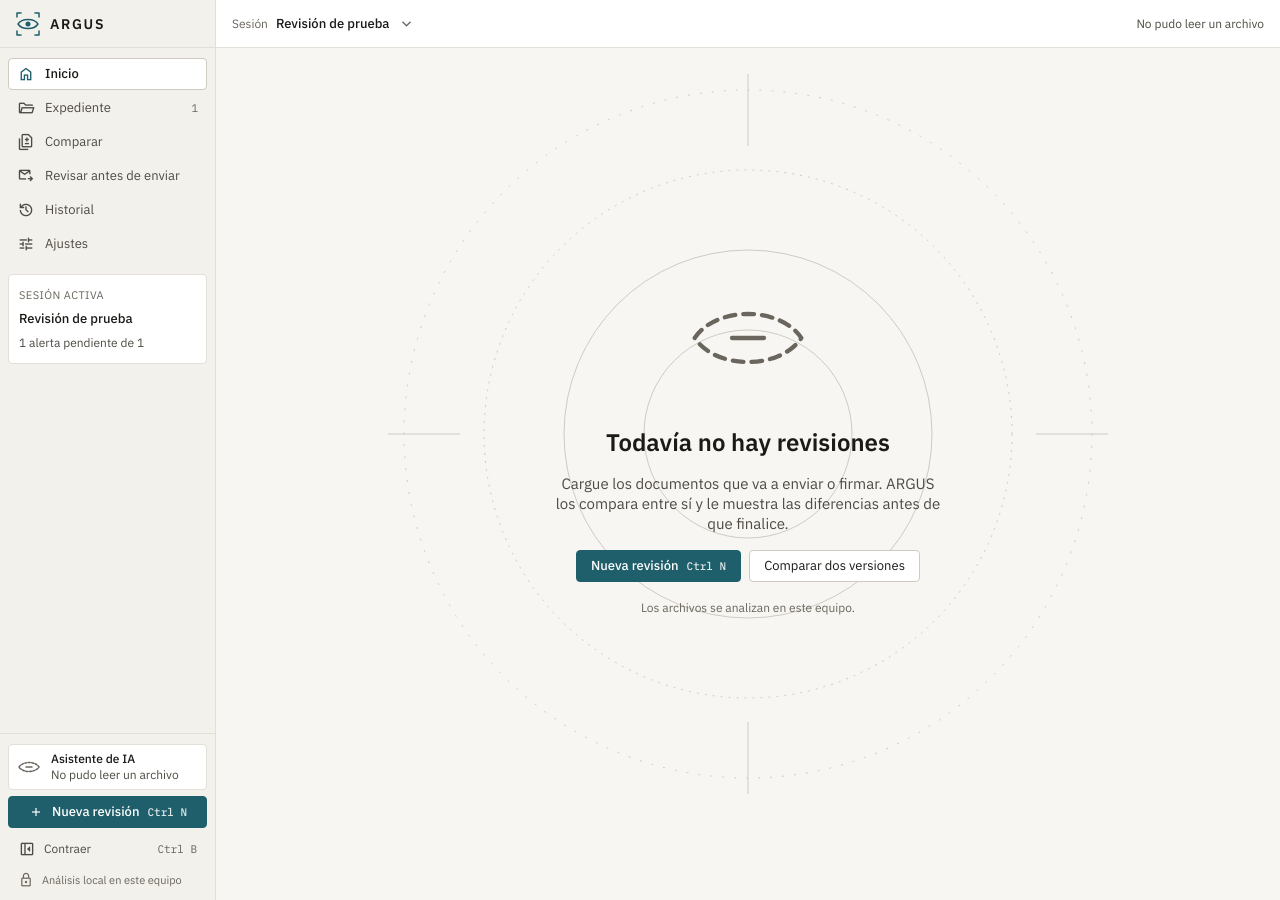
Explicar esta alerta › una alerta de un solo valor cita su único origen
Click the button "Expediente 1". click: (108, 108)
box: [8, 92, 207, 124]
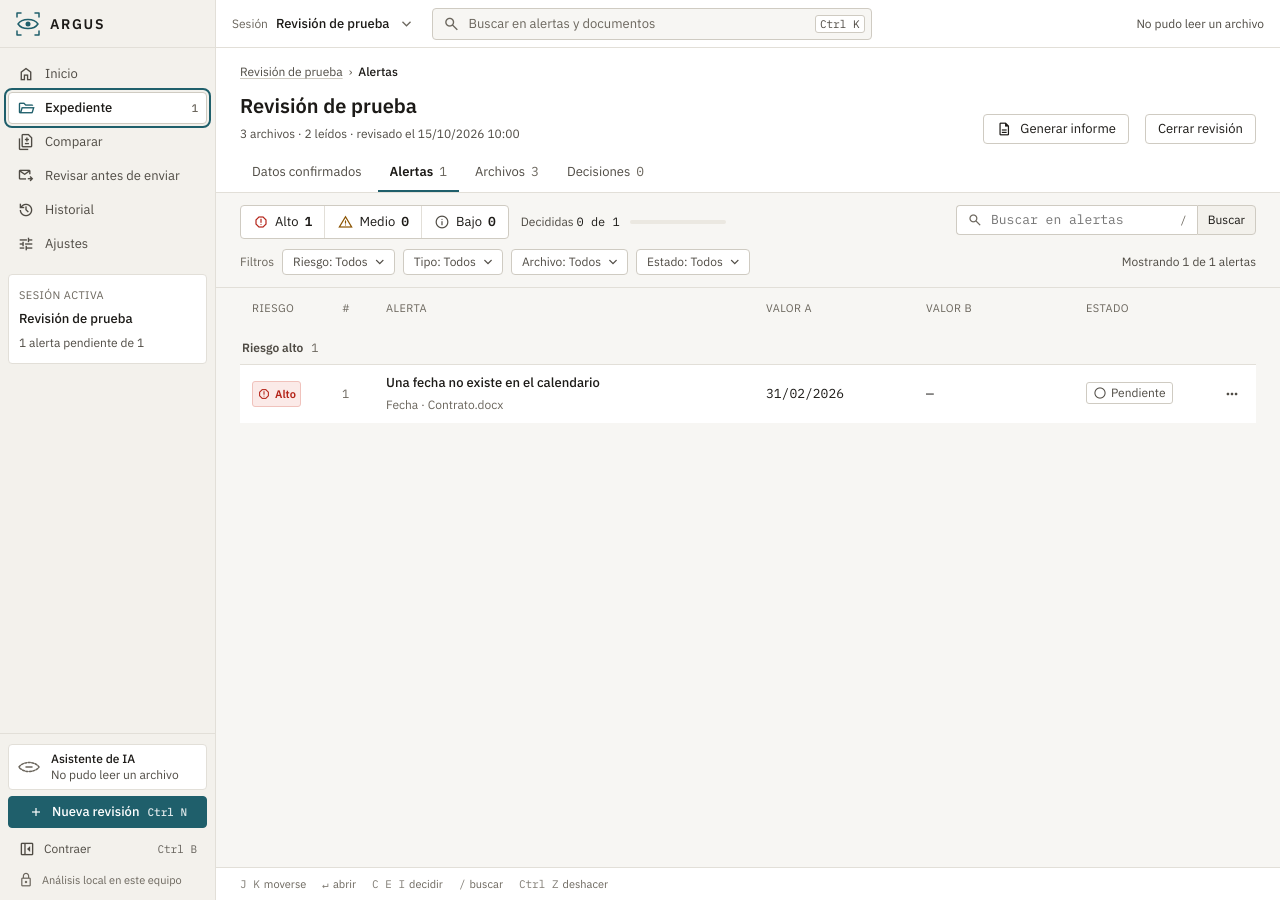
Click the row that starts with "Alto". click: (748, 394)
box: [240, 364, 1256, 423]
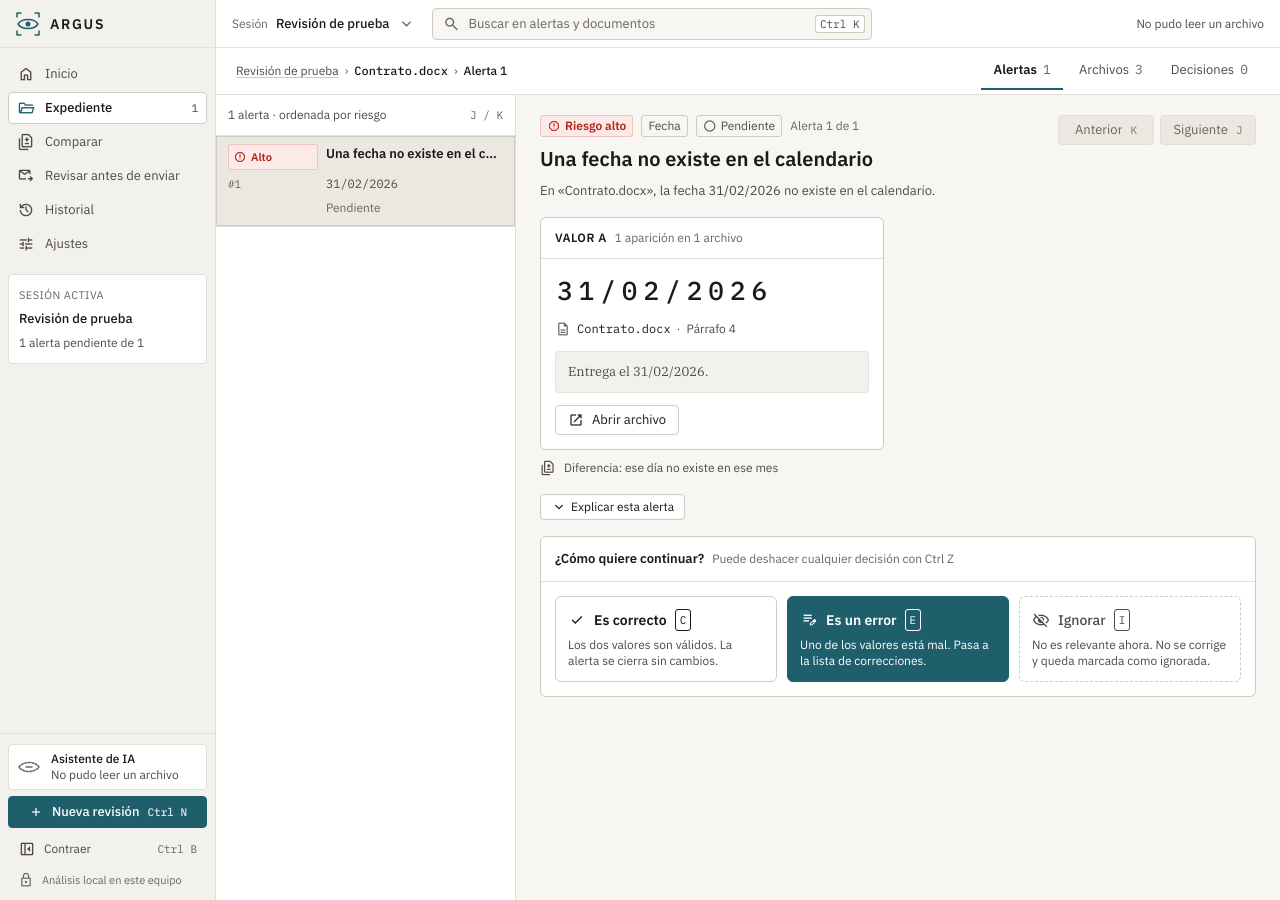
Click the button "Explicar esta alerta". click: (613, 507)
box: [540, 494, 685, 520]
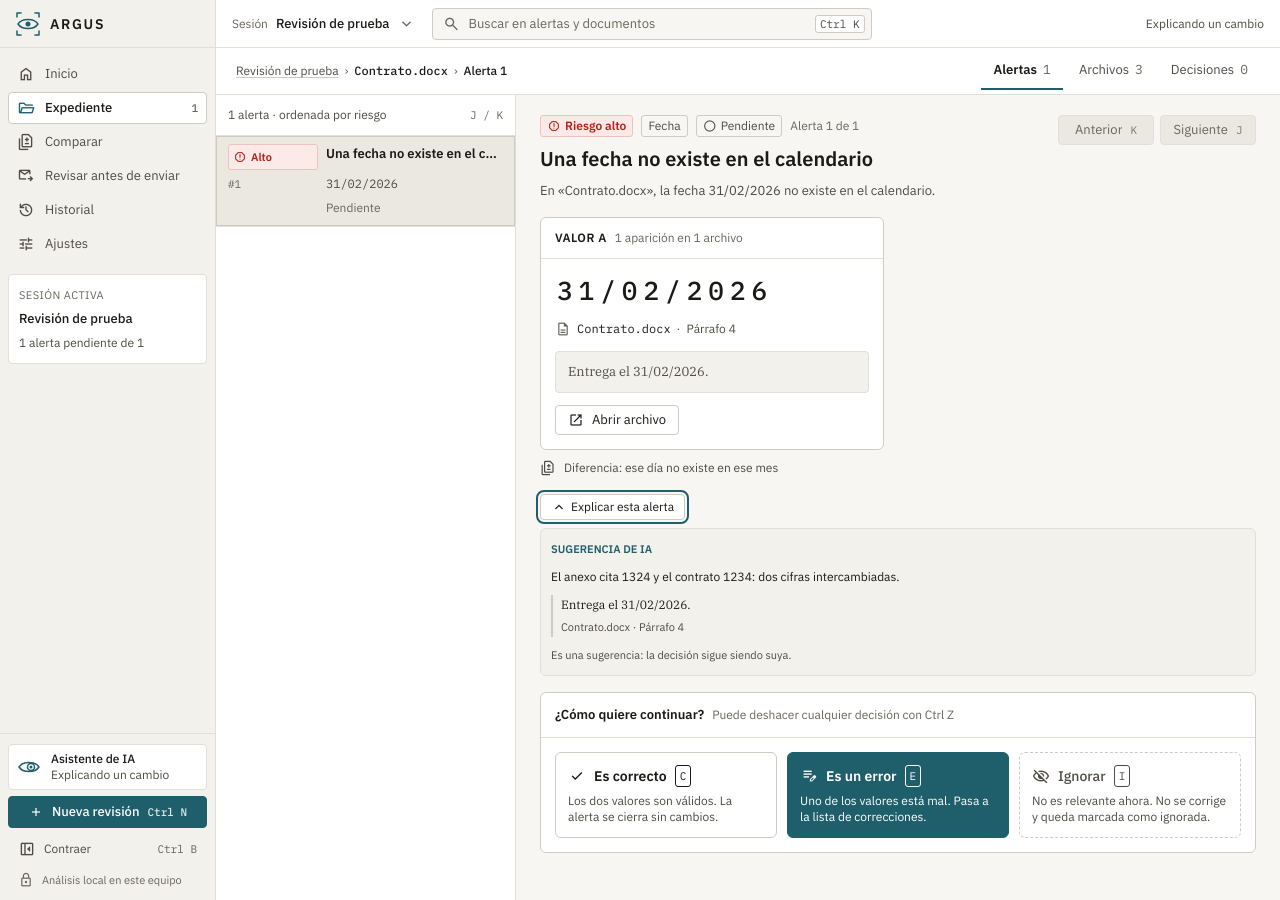
Expected: the text "Sugerencia de IA" is shown, [551, 542, 652, 556]
Expected: the text "Contrato.docx · Párrafo 4" is shown once, [561, 620, 684, 634]
